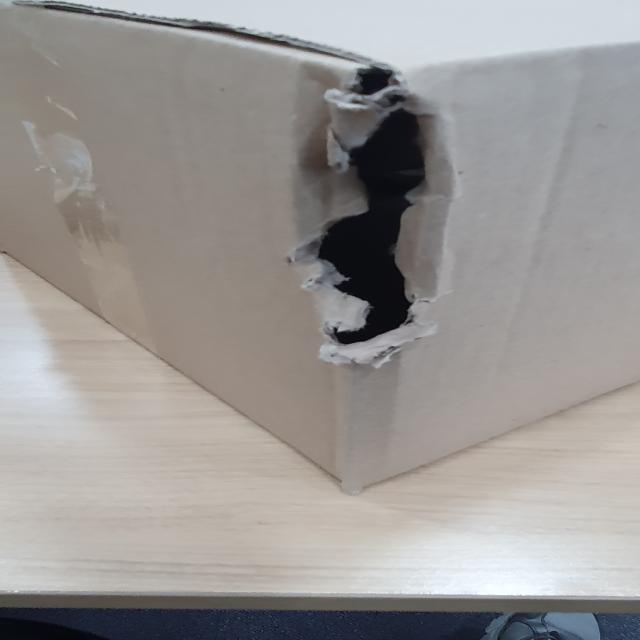hole: (281, 45, 471, 369)
